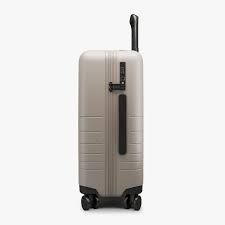suitcase: (74, 14, 147, 212)
